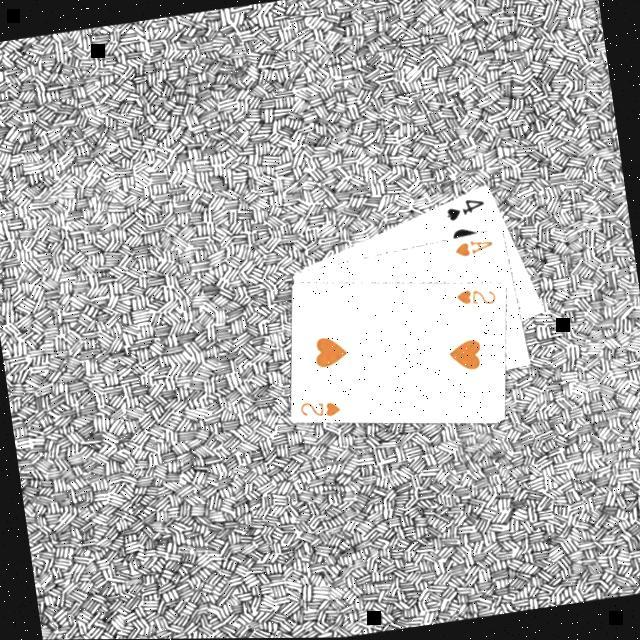2H: (453, 282, 502, 312), (297, 392, 346, 422)
4S: (443, 192, 490, 224)
AH: (452, 233, 498, 260)
